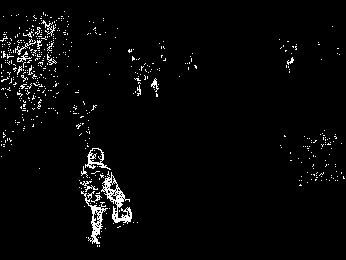person: (78, 146, 133, 246)
